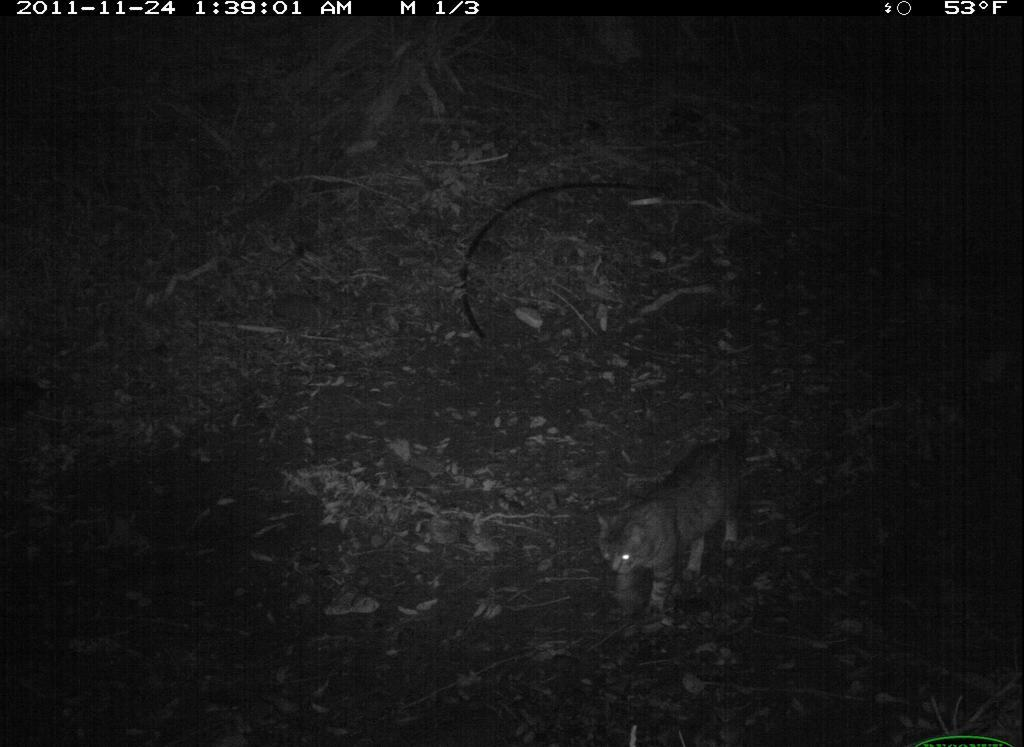cat: (574, 369, 774, 629)
